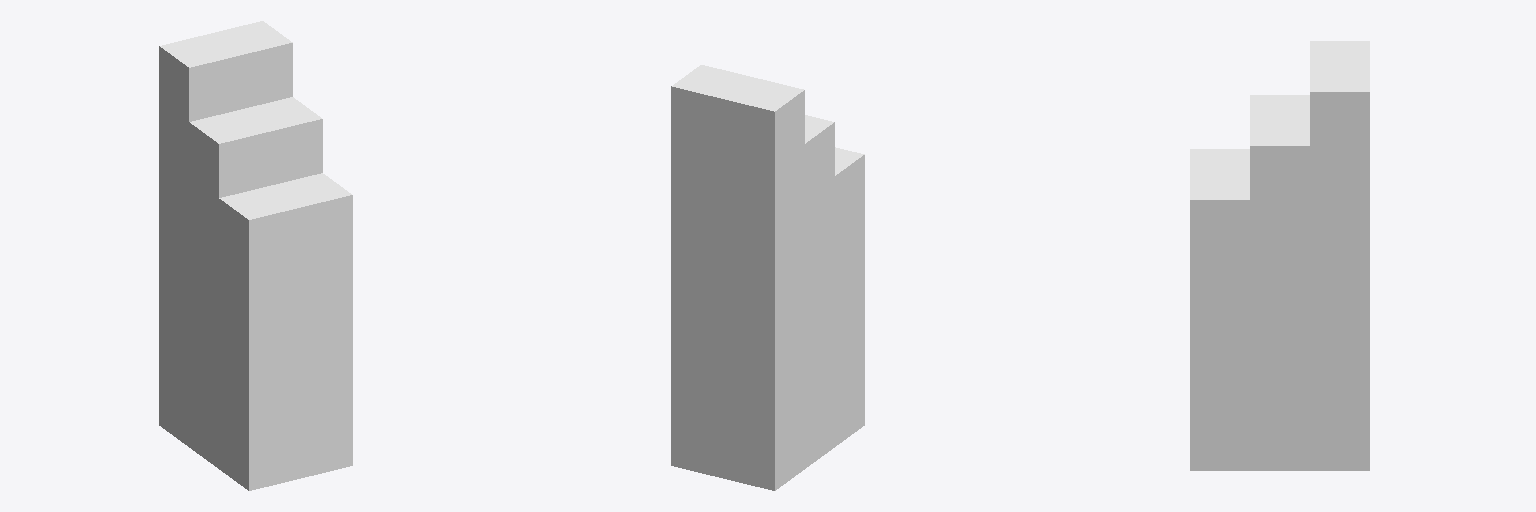
Rendered from bombeman-1-legl.obj.
3 views of the same model, side by side, from view 1: azimuth 30°, elevation 25°; view 2: azimuth 150°, elevation 25°; view 3: azimuth 270°, elevation 25° (orthographic).
Visible parts, largest first — view 1: legl; view 2: legl; view 3: legl.
Part boxes in pixels (left/top/right/bottom): legl: left=159, top=21, right=352, bottom=490; legl: left=671, top=65, right=864, bottom=490; legl: left=1190, top=41, right=1369, bottom=470.
Size of the model in its own units: 0.2 by 0.7 by 0.3.